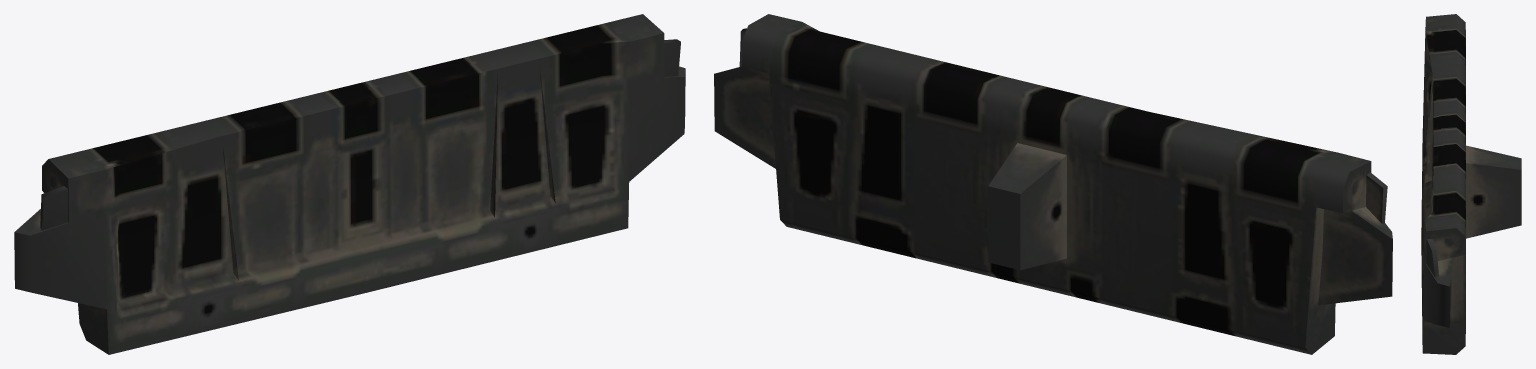
3 renders of one model, left to right at view 1: azimuth 30°, elevation 25°; view 2: azimuth 150°, elevation 25°; view 3: azimuth 270°, elevation 25°, orthographic. The views are drawn at different scales.
Visible parts, largest first — view 1: set_0_group_0; view 2: set_0_group_0; view 3: set_0_group_0.
Part boxes in pixels (box(x1,y1,x2,y2)): set_0_group_0: box(14, 14, 685, 354); set_0_group_0: box(714, 14, 1392, 354); set_0_group_0: box(1421, 14, 1521, 354).
Size of the model in its own units: 0.7003 by 0.1898 by 0.1225.
1 material, 1 textured.
